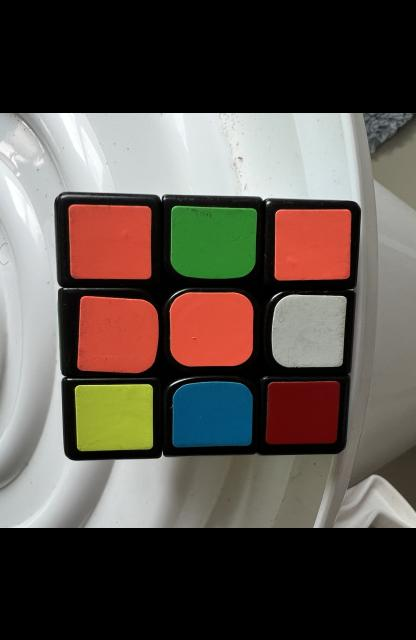Blue: (173, 381, 253, 447)
Green: (170, 205, 257, 278)
Orange: (77, 295, 159, 372), (68, 203, 152, 278), (169, 291, 253, 366), (274, 208, 352, 280)
Red: (266, 380, 340, 444)
White: (272, 293, 347, 367)
Yellow: (74, 383, 153, 450)
